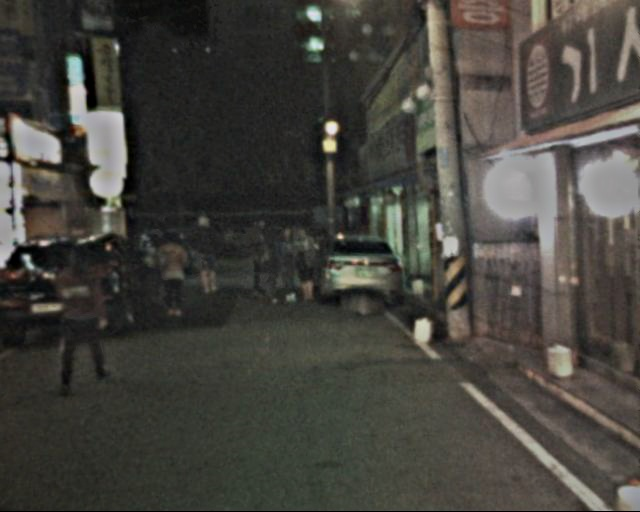person: (51, 233, 112, 393), (150, 226, 190, 314), (188, 209, 224, 299), (236, 217, 275, 291), (257, 219, 288, 303), (289, 224, 321, 303)
